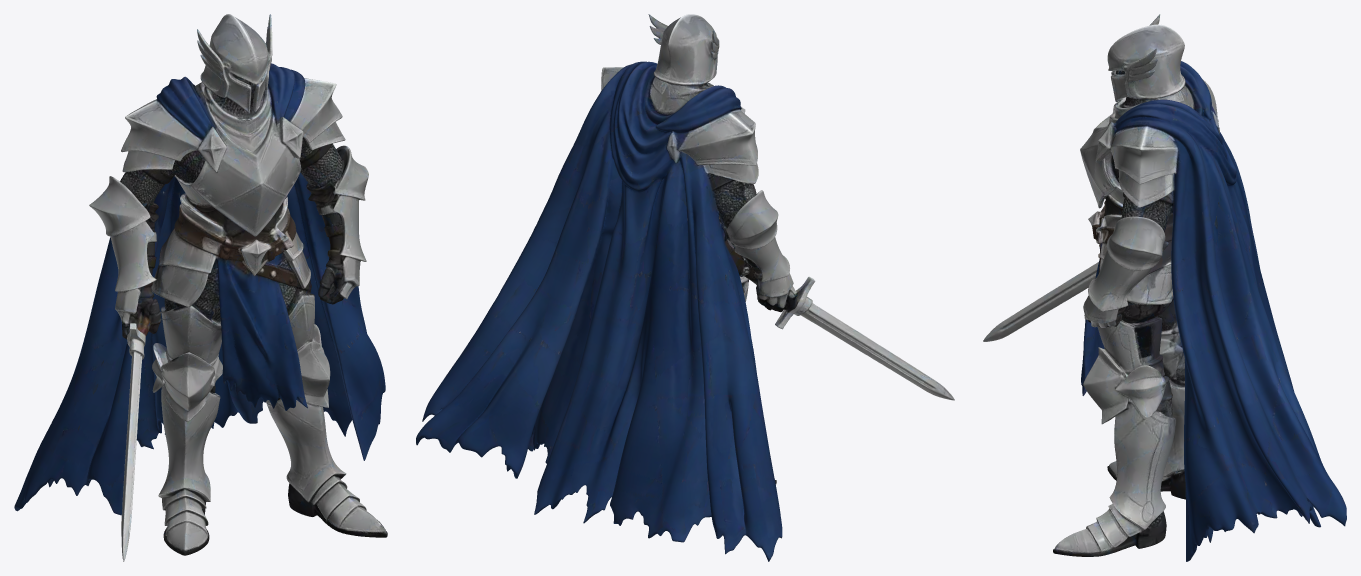
The model's file is fantasy-character.glb.
3 views of the same model, side by side, from view 1: azimuth 30°, elevation 25°; view 2: azimuth 150°, elevation 25°; view 3: azimuth 270°, elevation 25° (orthographic). The views are drawn at different scales.
Size of the model in its own units: 1.58 by 1.9 by 1.3.
1 material, 1 textured.
